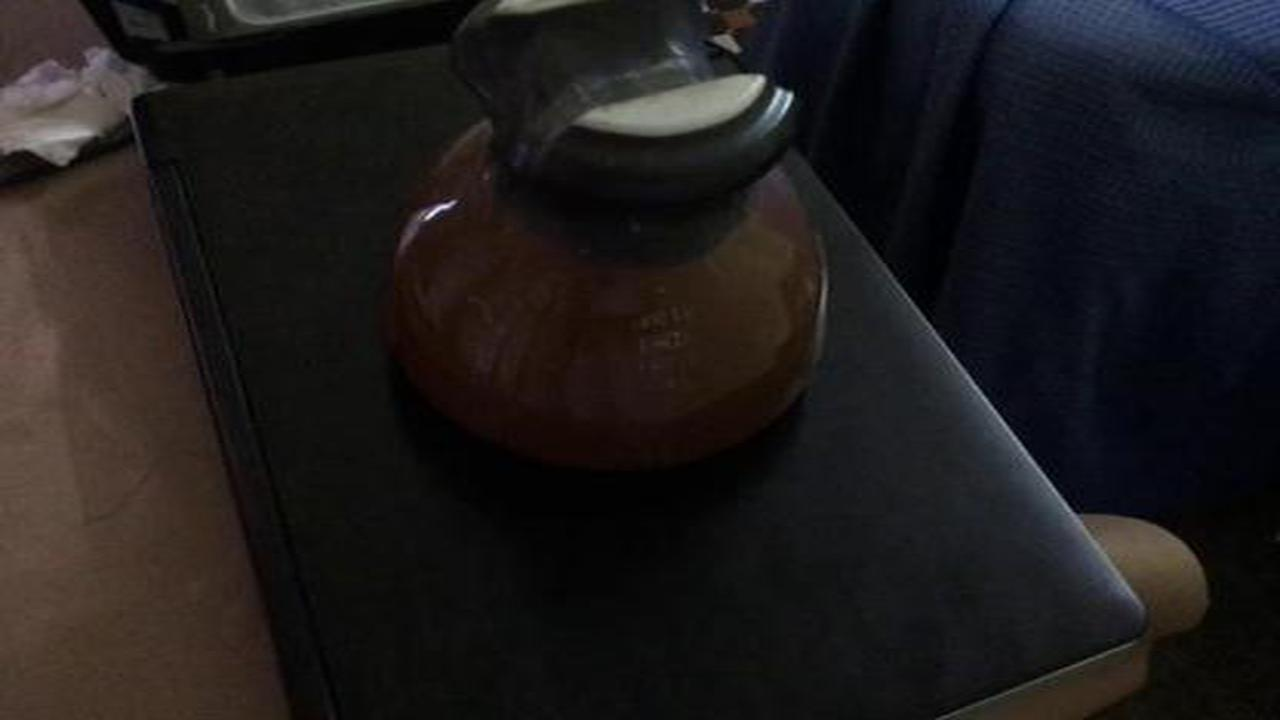insulator_pin: (361, 11, 837, 480)
